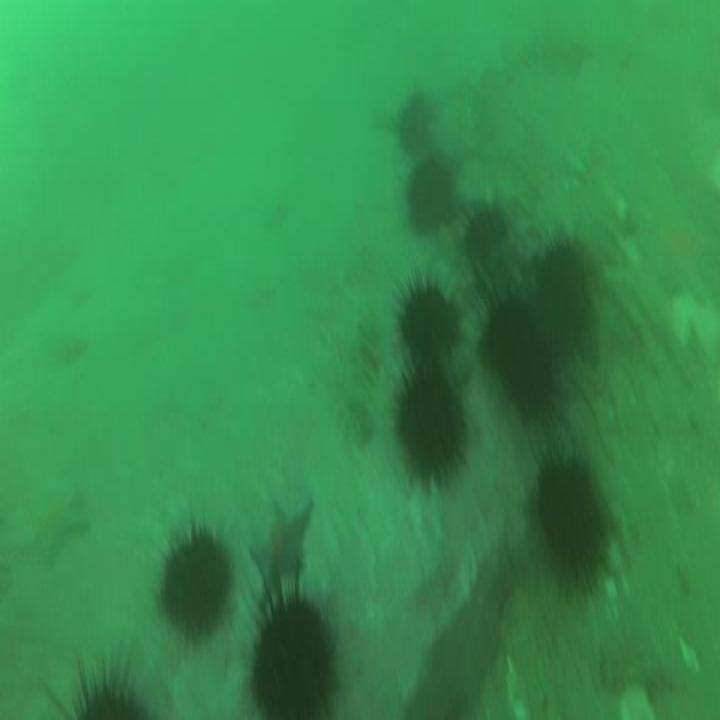echinus: (252, 603, 332, 718), (481, 300, 553, 418), (396, 361, 464, 483), (160, 526, 229, 636), (539, 460, 601, 576), (536, 234, 587, 324), (400, 283, 457, 357), (407, 160, 454, 233), (395, 91, 429, 153), (461, 206, 507, 249)
holothurian: (337, 304, 379, 437)
starfish: (246, 502, 314, 588), (24, 480, 89, 558)
